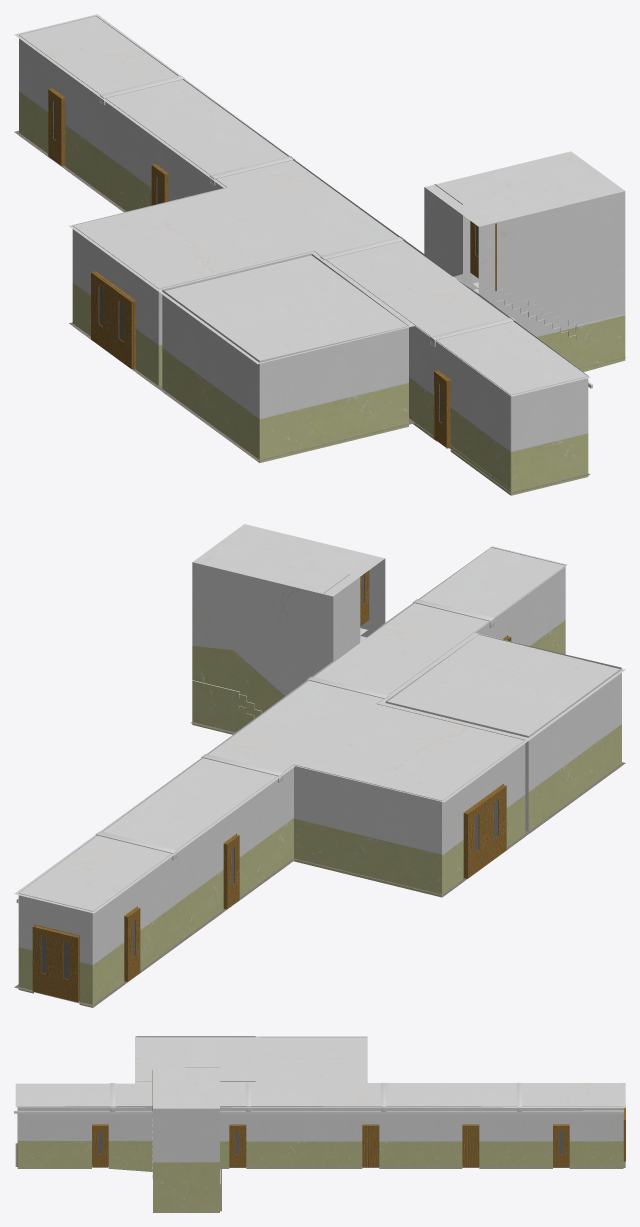
File: blender_CORRIDOR.glb
3 views of the same model, one above another, from view 1: azimuth 30°, elevation 25°; view 2: azimuth 150°, elevation 25°; view 3: azimuth 270°, elevation 25° (orthographic). The views are drawn at different scales.
Parts seen in each view (by area): view 1: wall1, ceiling, door and wood bar, floor, glass; view 2: wall1, ceiling, door and wood bar, floor, glass; view 3: wall1, ceiling, door and wood bar, cablewire, floor, glass.
Boxes of the visible parts, x1,y1,x2,y2 form: wall1: (19, 16, 625, 495); ceiling: (14, 14, 590, 396); door and wood bar: (48, 87, 496, 448); floor: (14, 130, 625, 493); glass: (54, 102, 478, 422); wall1: (18, 524, 621, 1007); ceiling: (14, 546, 625, 913); door and wood bar: (32, 570, 511, 1002); floor: (14, 722, 625, 1006); glass: (41, 574, 498, 979); wall1: (17, 1036, 623, 1212); ceiling: (15, 1036, 625, 1107); door and wood bar: (92, 1070, 625, 1167); cablewire: (14, 1110, 623, 1113); floor: (15, 1143, 625, 1211); glass: (98, 1131, 563, 1154).
Size of the model in its own units: 16.09 by 7.2 by 36.11.
Materials: 8 (5 with a texture image).
